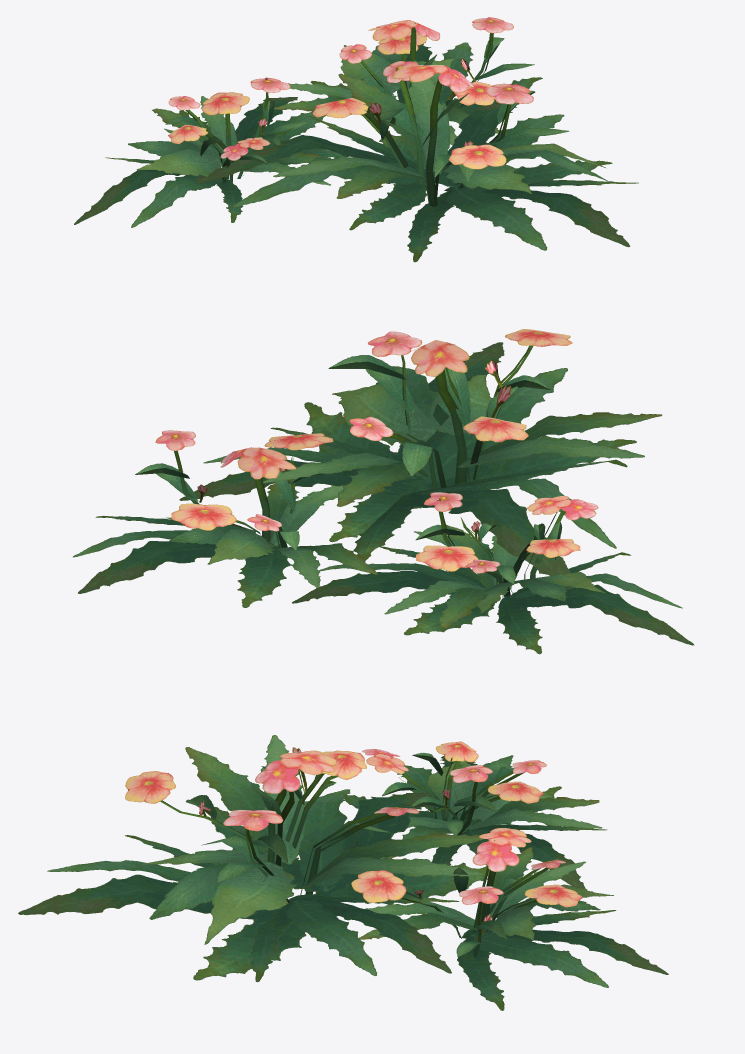
The model's file is 4007_Item_hua_1.FBX.
3 renders of one model, top to bottom at view 1: azimuth 30°, elevation 25°; view 2: azimuth 150°, elevation 25°; view 3: azimuth 270°, elevation 25°, orthographic. The views are drawn at different scales.
Parts seen in each view (by area): view 1: 4007_Item_hua_1; view 2: 4007_Item_hua_1; view 3: 4007_Item_hua_1.
Part boxes in pixels (x1,y1,x2,y2): 4007_Item_hua_1: [74, 17, 638, 262]; 4007_Item_hua_1: [73, 329, 694, 654]; 4007_Item_hua_1: [18, 735, 668, 1010].
Bounding box in the file's own units: 225 × 58.02 × 227.
